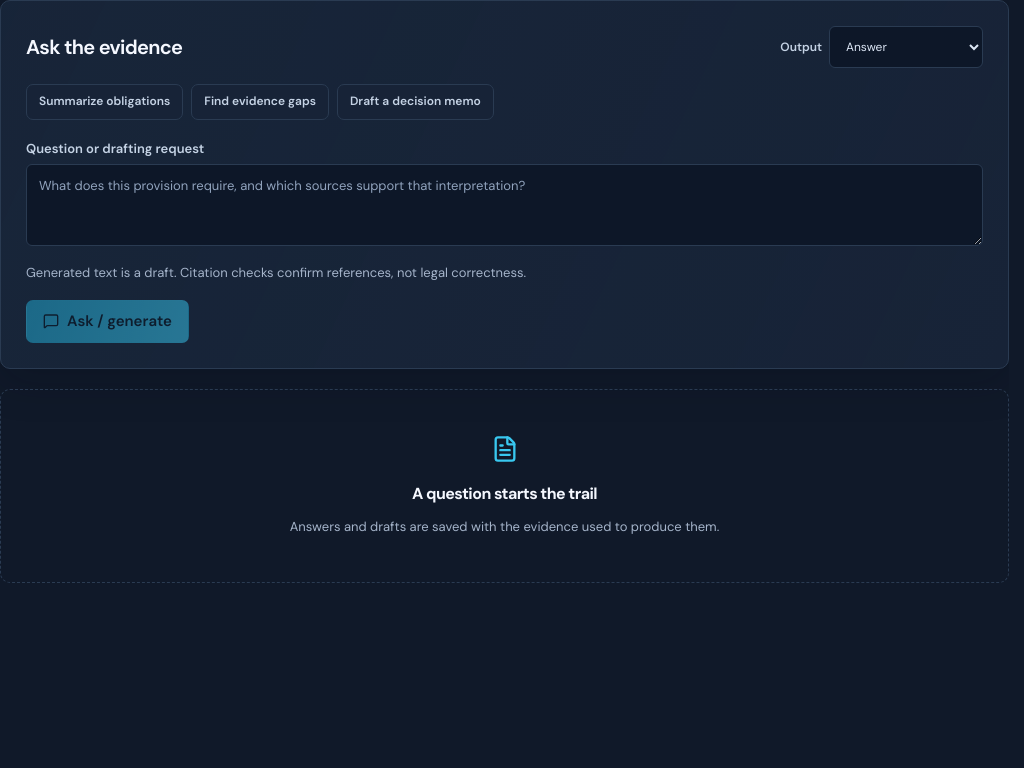
Scenario: Grounded research › sets a reviewable prompt without starting generation or spending inference
The width and height of the screenshot is (1024, 768).
Click the button "Draft a decision memo" at x=415, y=102, box [337, 84, 494, 120]
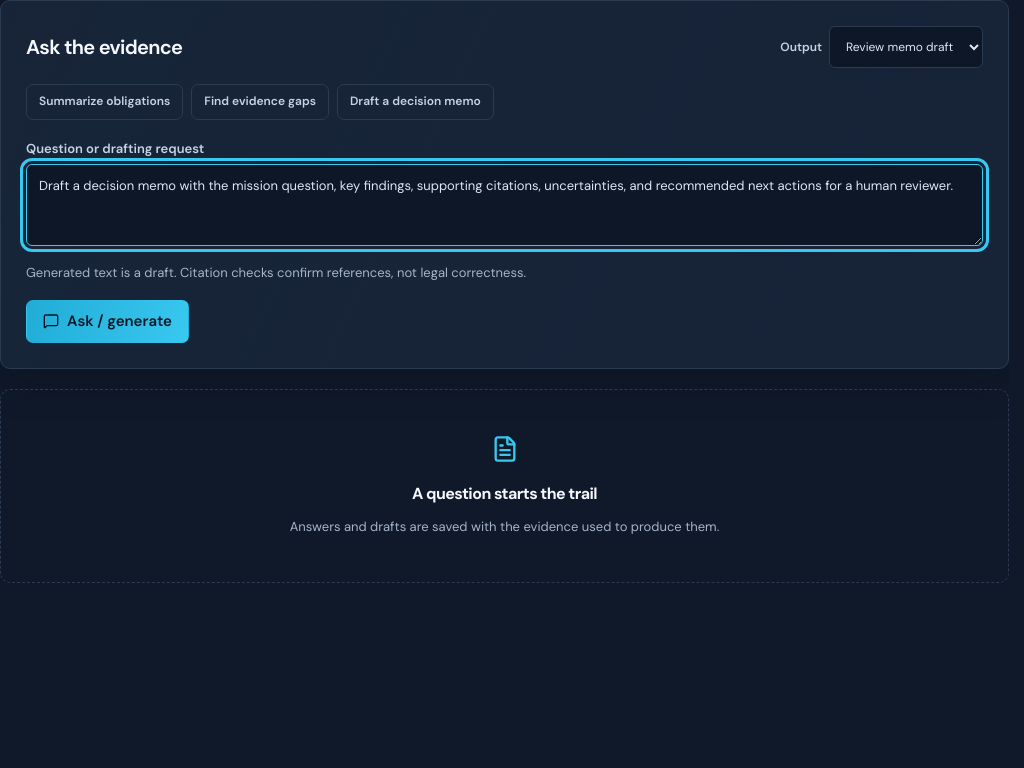
Expected: the dropdown labelled "Output" shows "Review memo draft", [829, 26, 983, 68]
